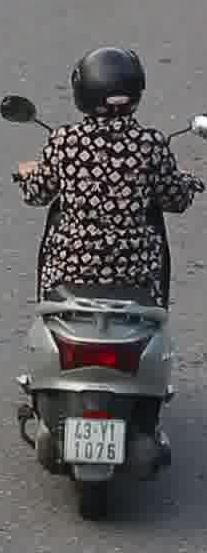LP: (62, 408, 133, 472)
helmet: (67, 40, 146, 119)
